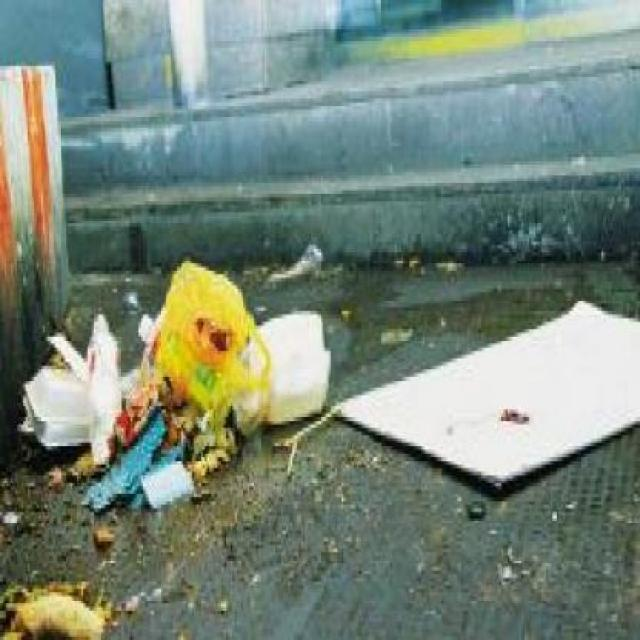garbage: (34, 255, 301, 492)
